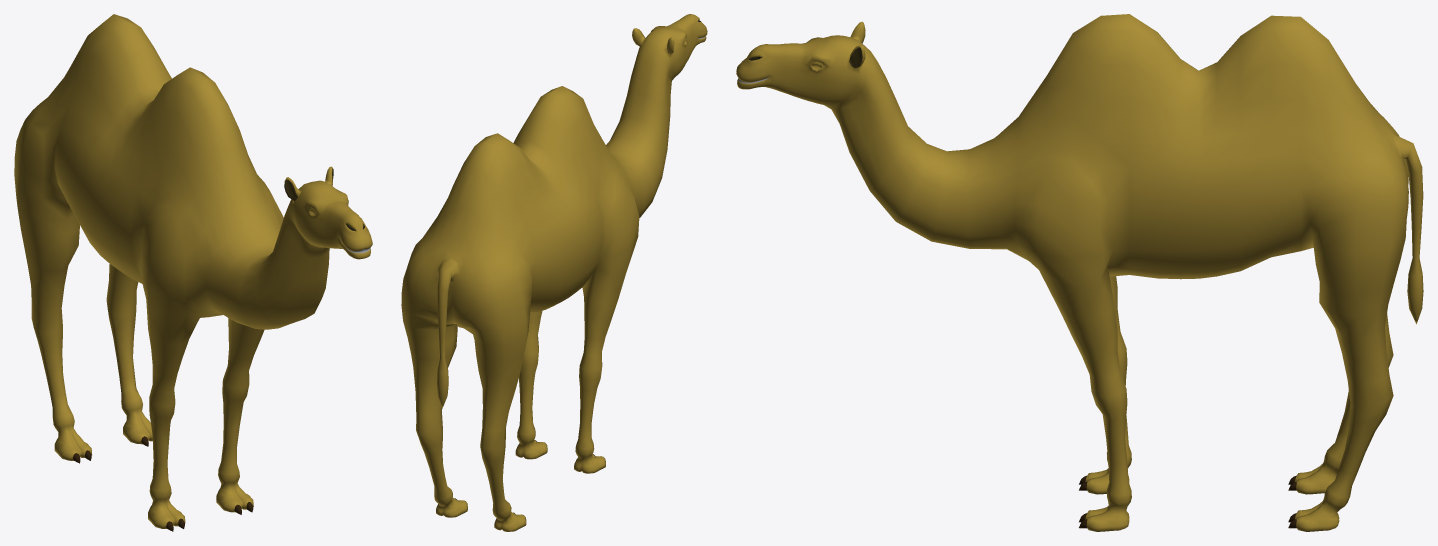
The model's file is bactrian_camel_bactrian_camel.obj.
3 renders of one model, left to right at view 1: azimuth 30°, elevation 25°; view 2: azimuth 150°, elevation 25°; view 3: azimuth 270°, elevation 25°, orthographic. The views are drawn at different scales.
Visible parts, largest first — view 1: bactrian_camel; view 2: bactrian_camel; view 3: bactrian_camel.
Part boxes in pixels (x1,y1,x2,y2): bactrian_camel: (14, 14, 372, 531); bactrian_camel: (401, 14, 707, 531); bactrian_camel: (736, 14, 1423, 531).
Size of the model in its own units: 0.7147 by 2.1 by 2.65.
